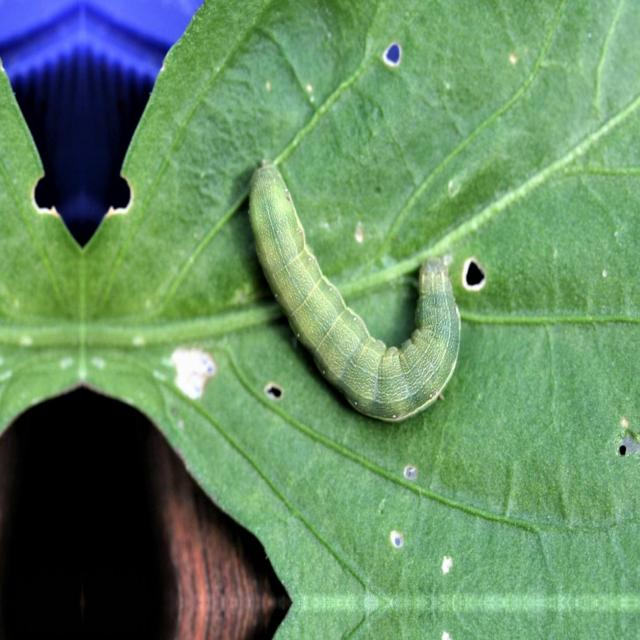armyworm: (246, 160, 462, 424)
